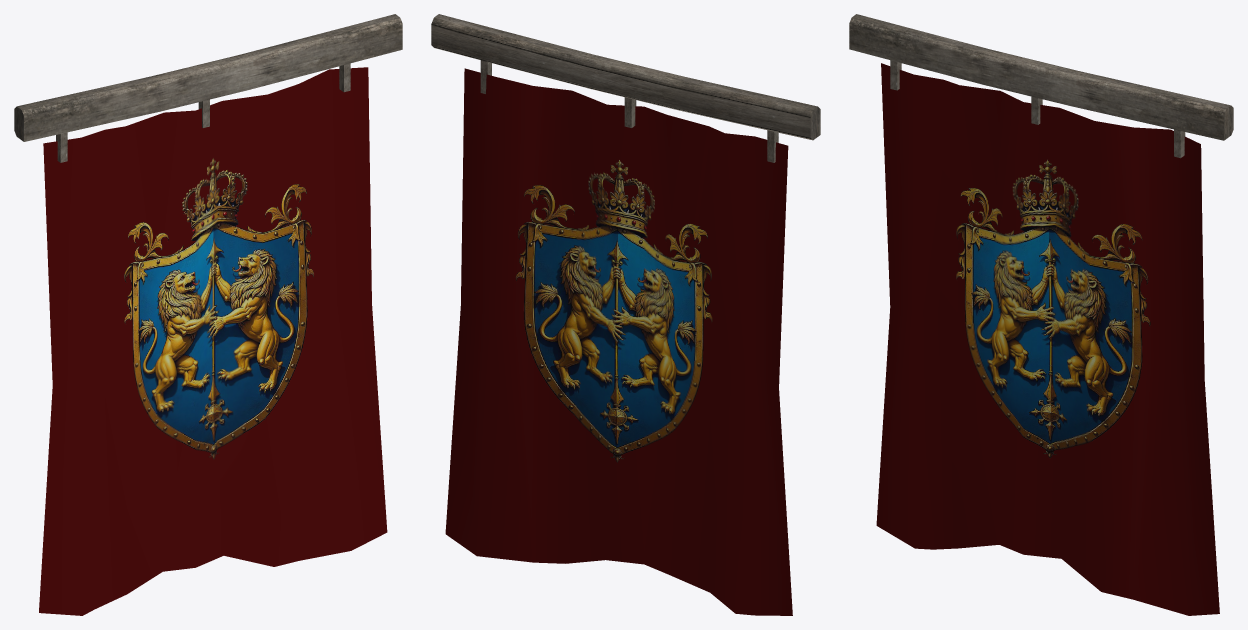
File: SM_Banner4.fbx
3 views of the same model, side by side, from view 1: azimuth 30°, elevation 25°; view 2: azimuth 150°, elevation 25°; view 3: azimuth 330°, elevation 25° (orthographic).
Visible parts, largest first — view 1: SM_Banner4; view 2: SM_Banner4; view 3: SM_Banner4.
Part boxes in pixels (x1,y1,x2,y2): SM_Banner4: (14, 14, 402, 615); SM_Banner4: (431, 14, 820, 615); SM_Banner4: (849, 14, 1233, 615).
Bounding box in the file's own units: 285 × 12.84 × 378.
Materials: 1 (1 with a texture image).
